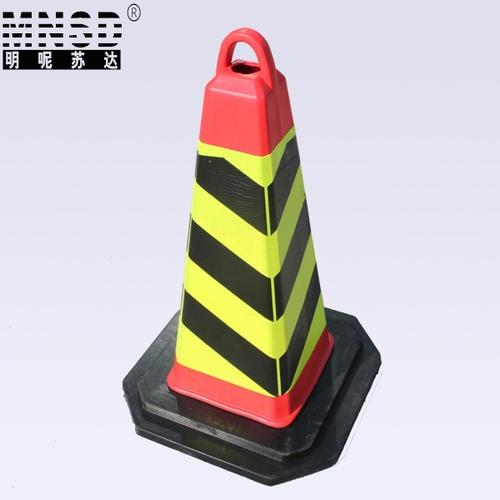cone_barrel: (135, 30, 363, 457)
